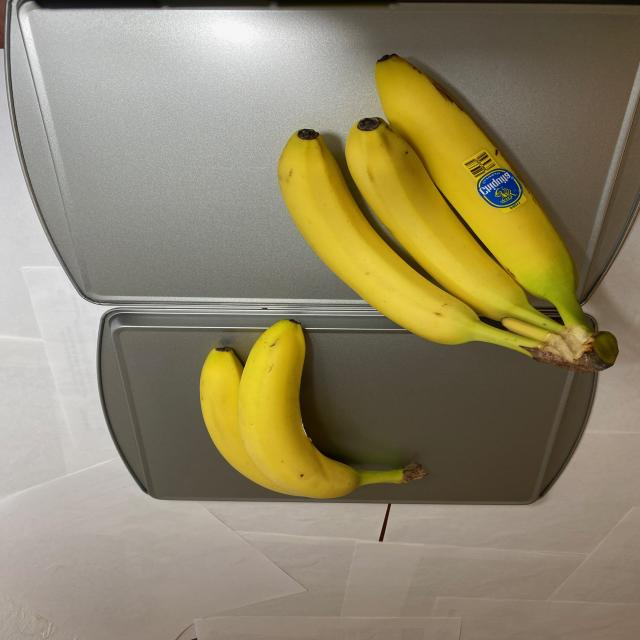banana: (271, 47, 623, 374), (189, 321, 434, 500)
